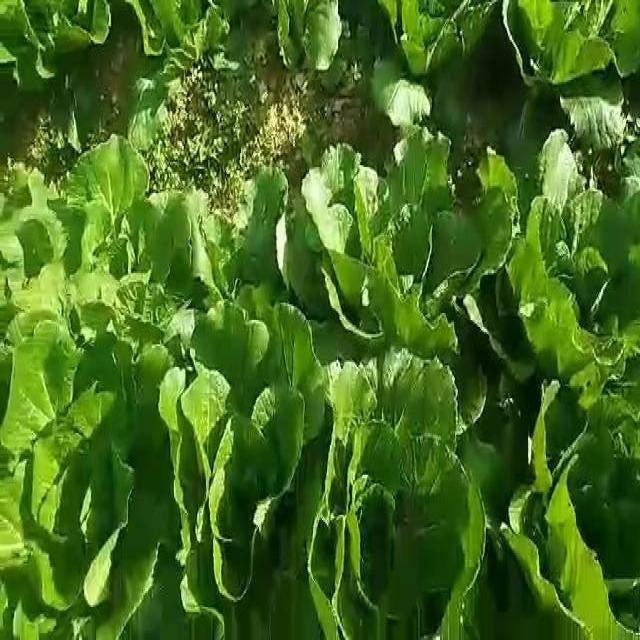Cabbage: (160, 297, 337, 640), (326, 328, 500, 640), (1, 328, 167, 640), (305, 119, 503, 344), (499, 358, 640, 640), (520, 116, 640, 371), (0, 132, 141, 336), (142, 158, 298, 322)
